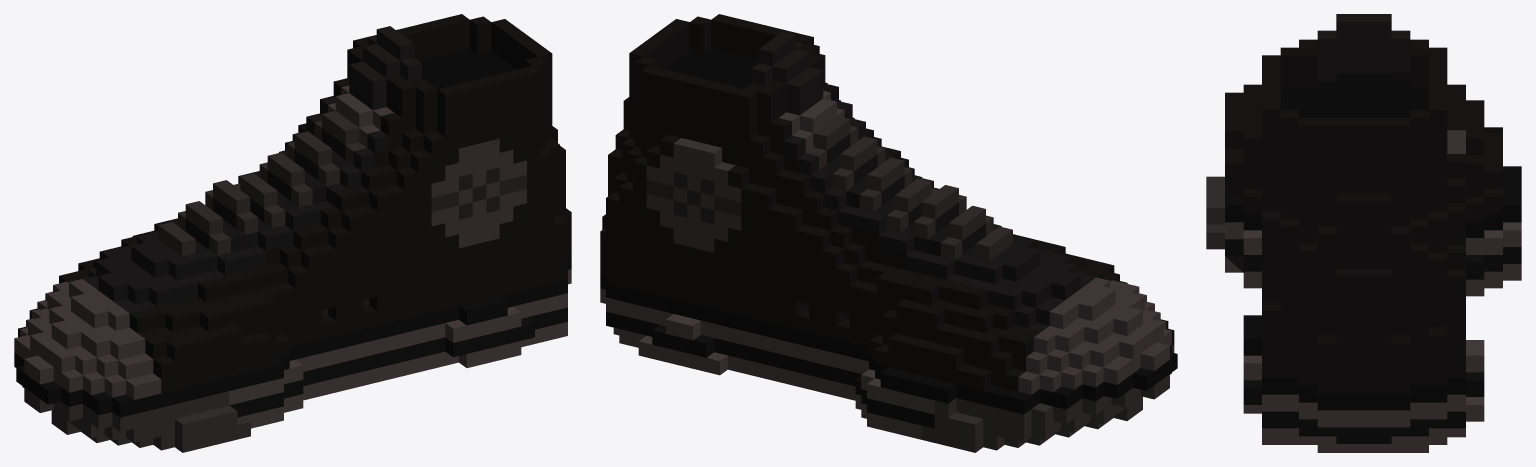
The model's file is Night Rider.fbx.
3 renders of one model, left to right at view 1: azimuth 30°, elevation 25°; view 2: azimuth 150°, elevation 25°; view 3: azimuth 270°, elevation 25°, orthographic. The views are drawn at different scales.
Parts seen in each view (by area): view 1: Untitled; view 2: Untitled; view 3: Untitled.
Part boxes in pixels (x1,y1,x2,y2): Untitled: [14, 14, 571, 452]; Untitled: [600, 14, 1177, 452]; Untitled: [1206, 14, 1521, 452].
Bounding box in the file's own units: 390 × 210 × 170.
